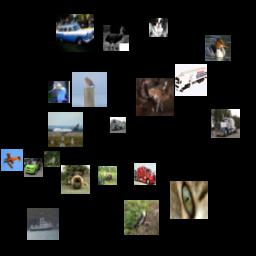airplane: (48, 112, 83, 147), (1, 149, 23, 171)
automobile: (56, 14, 94, 52), (24, 158, 43, 177)
bird: (124, 200, 159, 235), (72, 72, 107, 107), (205, 35, 231, 61), (103, 25, 129, 51), (48, 81, 70, 103)
cat: (170, 181, 208, 219)
deer: (136, 78, 174, 116), (98, 166, 117, 185)
dog: (61, 165, 90, 194), (149, 18, 168, 37)
frog: (44, 151, 60, 167)
ship: (27, 208, 59, 240)
truck: (175, 64, 207, 96), (211, 109, 240, 138), (134, 163, 156, 185), (110, 117, 126, 133)
